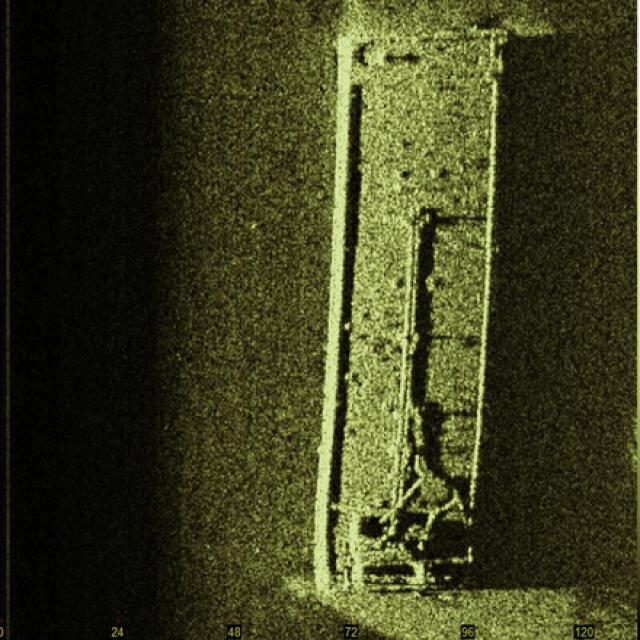ship: (328, 22, 503, 596)
